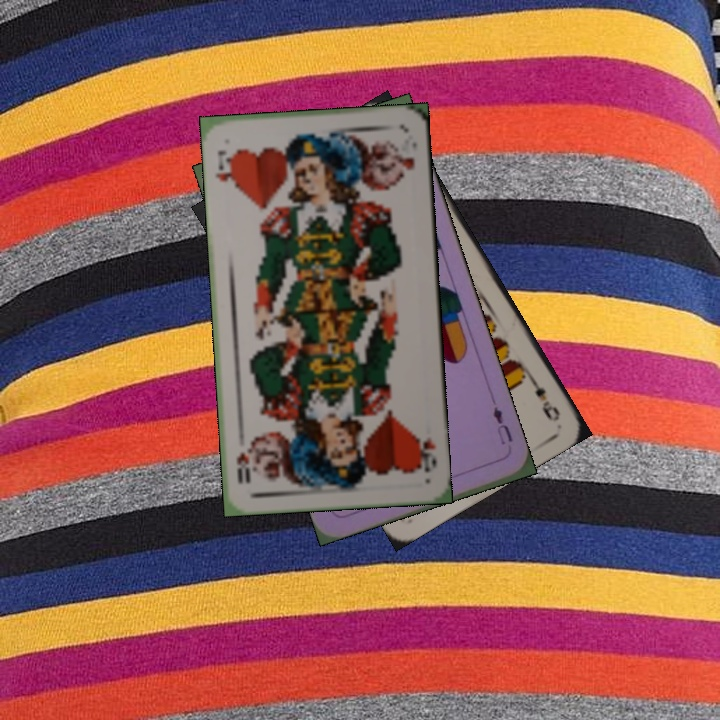E9: (525, 371, 563, 424)
EU: (488, 397, 516, 447)
HO: (412, 429, 439, 475), (211, 146, 238, 191)
